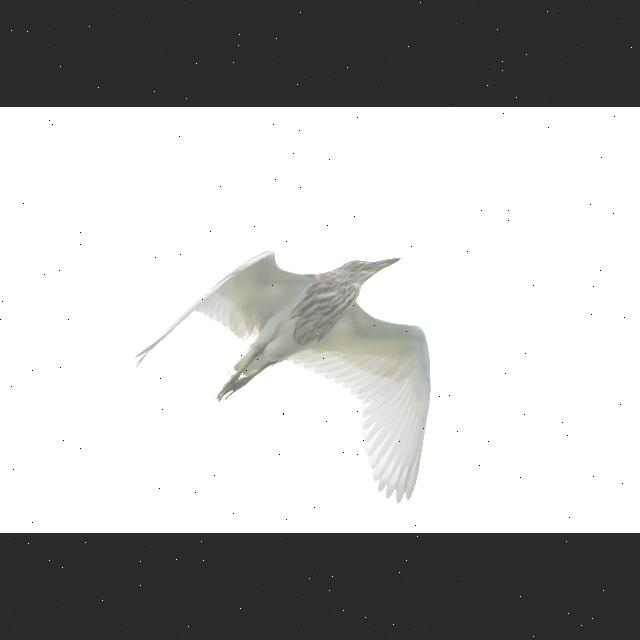egret: (124, 236, 448, 496)
